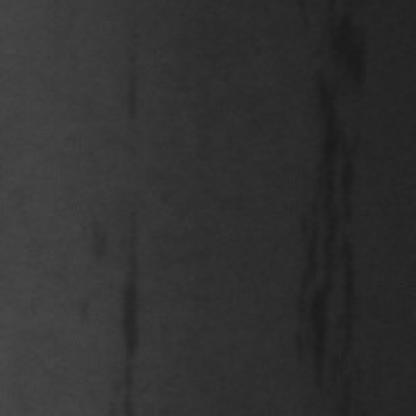inclusion: (294, 0, 370, 406), (94, 193, 150, 412), (110, 25, 148, 125)
